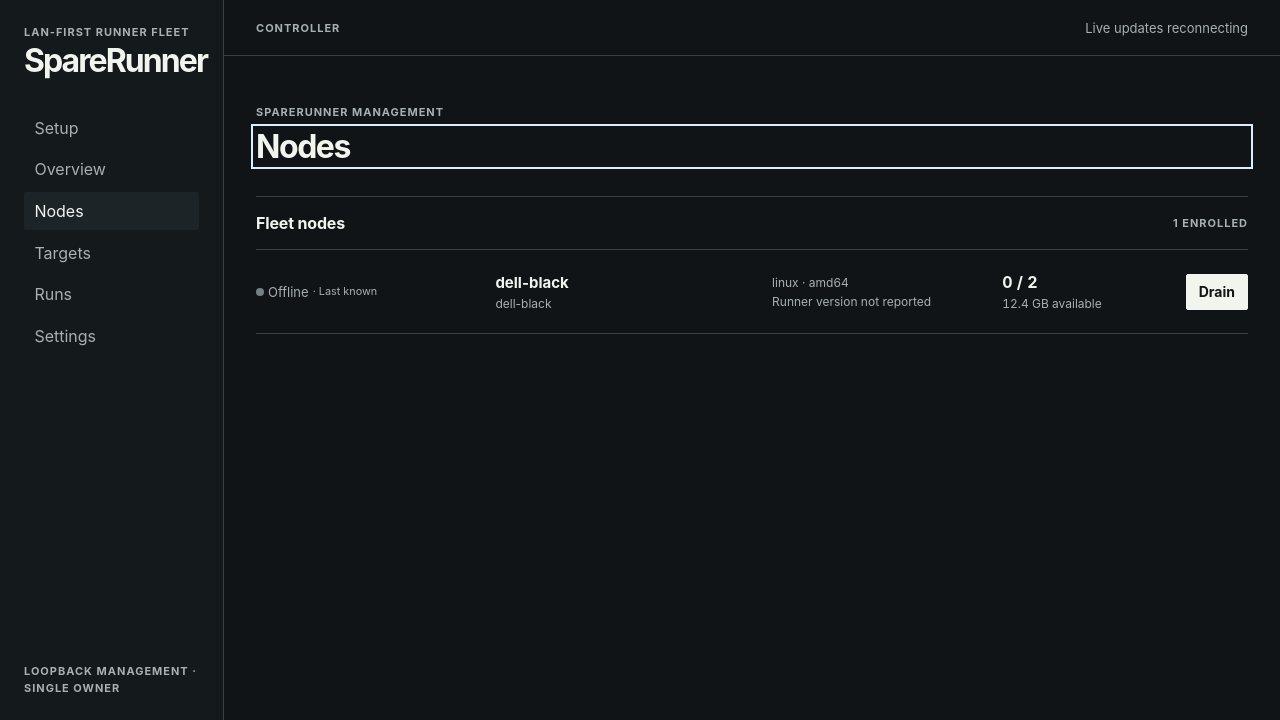
App › uses the node-list revision for a drain mutation
Click the button "Drain" at (1217, 292), box [1186, 274, 1248, 310]
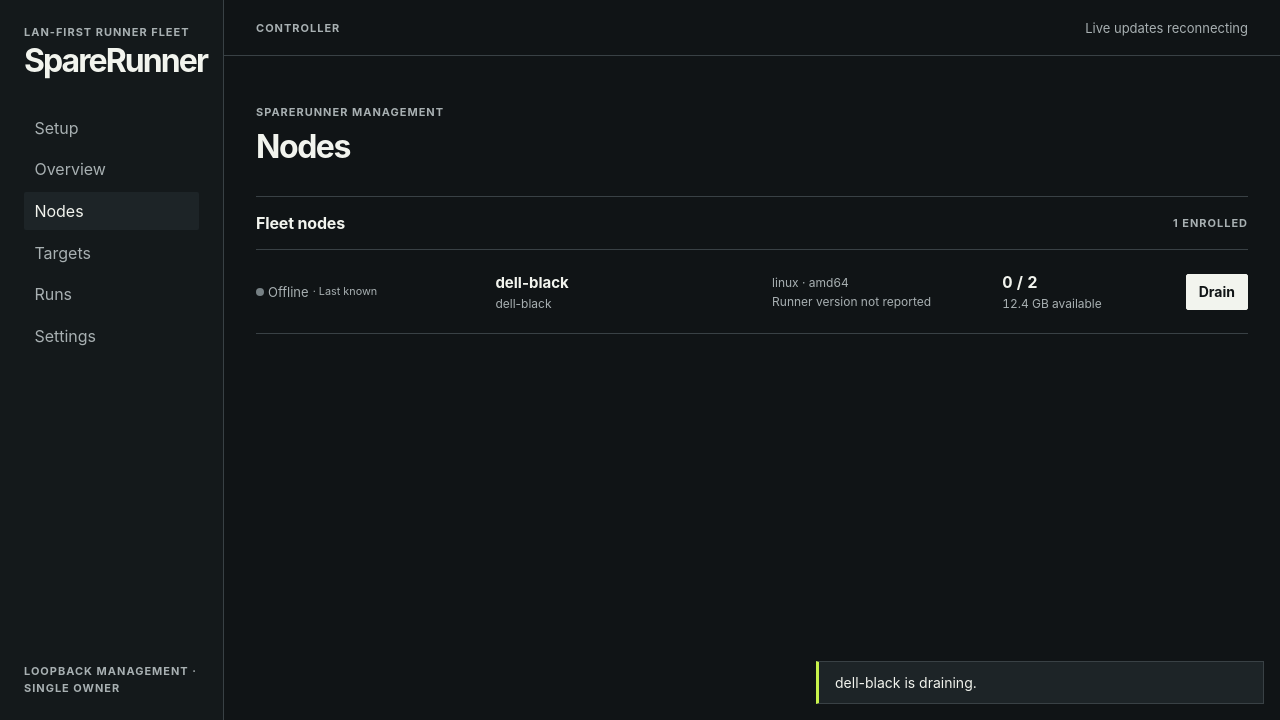
Expected: the text "dell-black is draining." is shown, [816, 661, 1264, 704]
